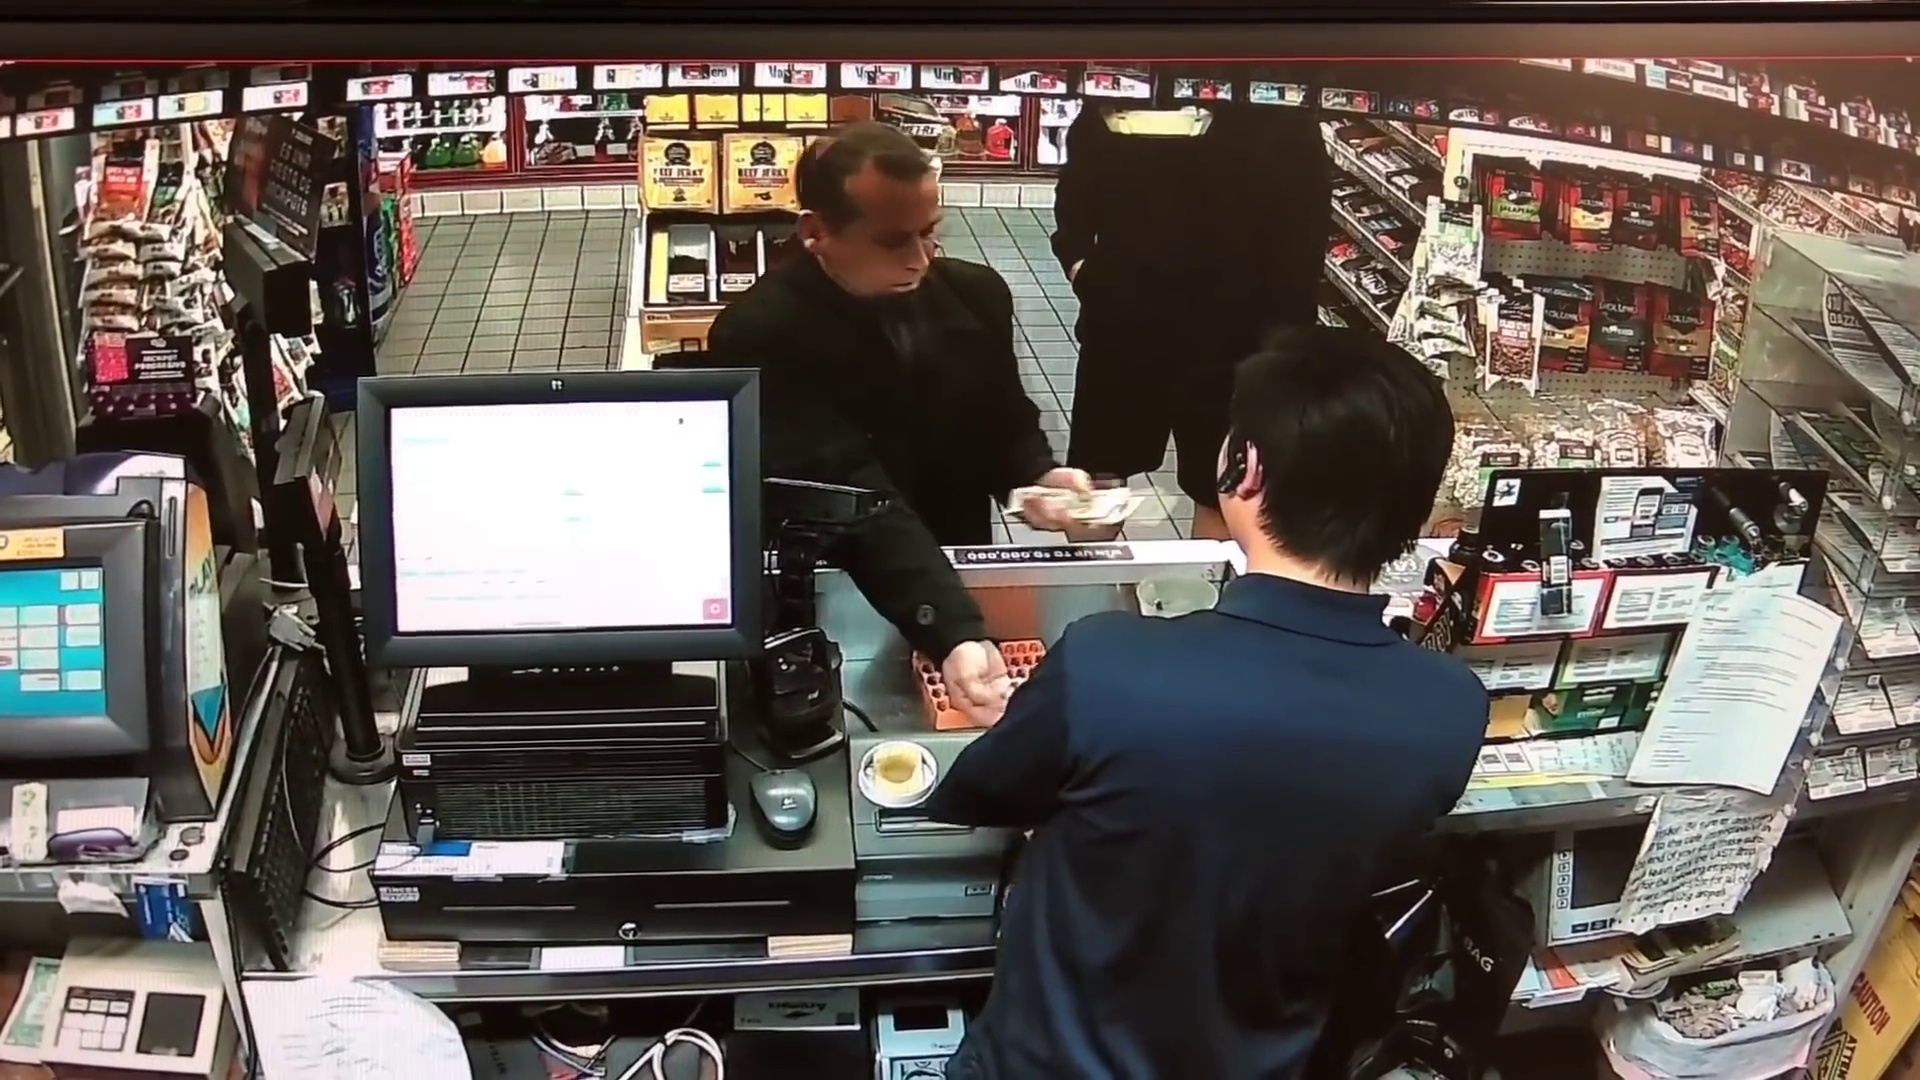face: (830, 166, 949, 301)
